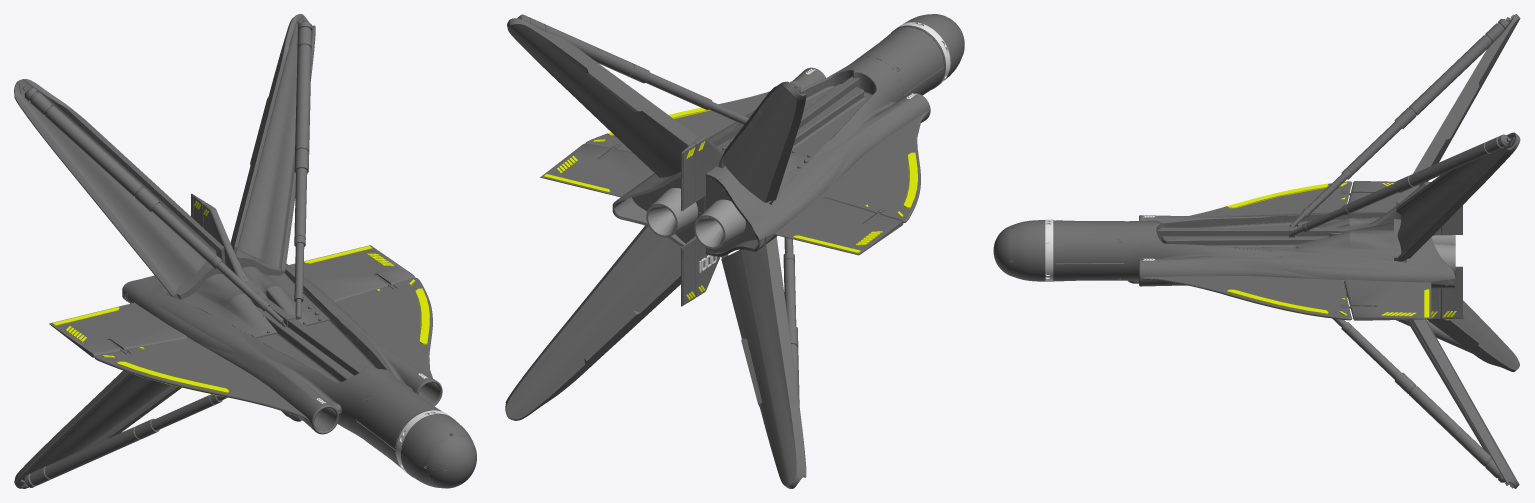
The model's file is roadrunner-v1.glb.
3 views of the same model, side by side, from view 1: azimuth 30°, elevation 25°; view 2: azimuth 150°, elevation 25°; view 3: azimuth 270°, elevation 25° (orthographic). The views are drawn at different scales.
Parts seen in each view (by area): view 1: Part 1 (×6), Part 5, Part 7, Part 2, Part 4, Part 13, Part 8, Part 6; view 2: Part 5, Part 1 (×5), Part 2 (×2), Part 7, Part 4, Part 8, Part 3, Part 6; view 3: Part 7, Part 1 (×5), Part 2 (×3), Part 5, Part 6, Part 3, Part 13.
Part boxes in pixels (bbox=[...]): Part 1 (×6): bbox=[14, 14, 446, 488]; Part 5: bbox=[49, 193, 385, 423]; Part 7: bbox=[194, 195, 442, 394]; Part 2: bbox=[14, 79, 225, 299]; Part 4: bbox=[356, 382, 451, 467]; Part 13: bbox=[427, 435, 476, 488]; Part 8: bbox=[49, 293, 363, 439]; Part 6: bbox=[386, 382, 476, 451]; Part 5: bbox=[681, 57, 930, 254]; Part 1 (×5): bbox=[507, 14, 964, 488]; Part 2 (×2): bbox=[505, 81, 806, 420]; Part 7: bbox=[540, 56, 873, 224]; Part 4: bbox=[875, 14, 964, 94]; Part 8: bbox=[681, 96, 930, 306]; Part 3: bbox=[540, 111, 701, 306]; Part 6: bbox=[855, 14, 939, 60]; Part 7: bbox=[1124, 183, 1462, 319]; Part 1 (×5): bbox=[1290, 19, 1520, 482]; Part 2 (×3): bbox=[1009, 14, 1520, 488]; Part 5: bbox=[1124, 181, 1455, 244]; Part 6: bbox=[1009, 222, 1124, 263]; Part 3: bbox=[1124, 263, 1463, 320]; Part 13: bbox=[993, 226, 1009, 275].
Size of the model in its own units: 0.13 by 0.1574 by 0.2108.
